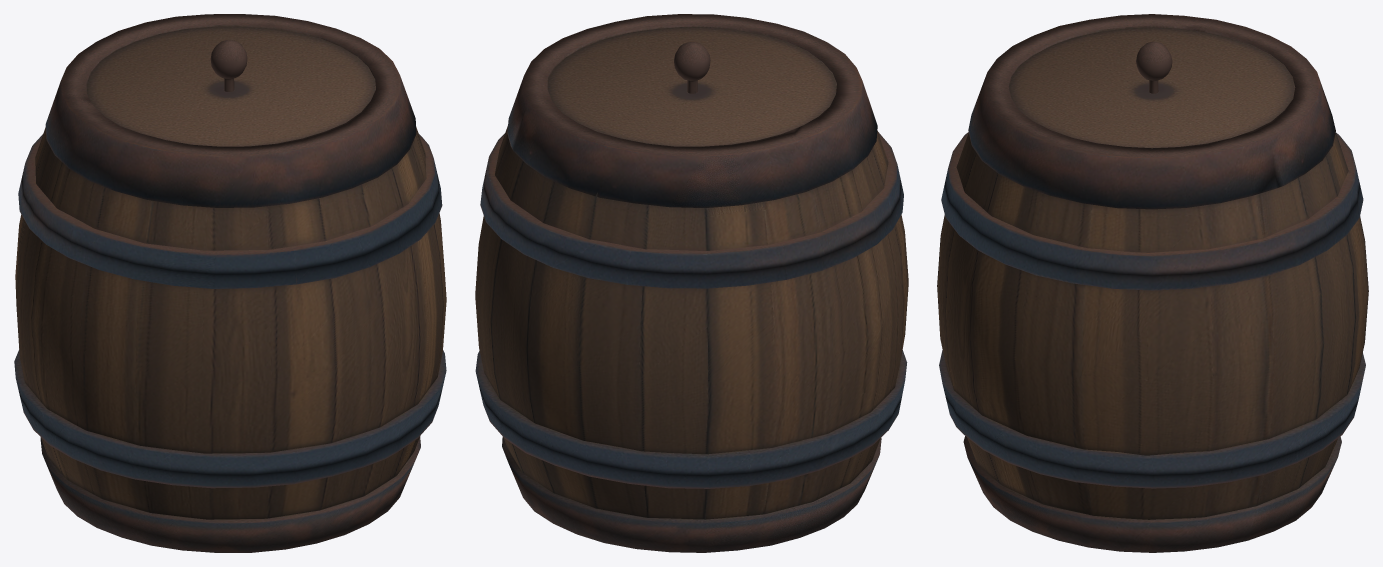
The model's file is Barrel.glb.
3 renders of one model, left to right at view 1: azimuth 30°, elevation 25°; view 2: azimuth 150°, elevation 25°; view 3: azimuth 270°, elevation 25°, orthographic.
Size of the model in its own units: 0.9074 by 1 by 0.8985.
1 material, 1 textured.
